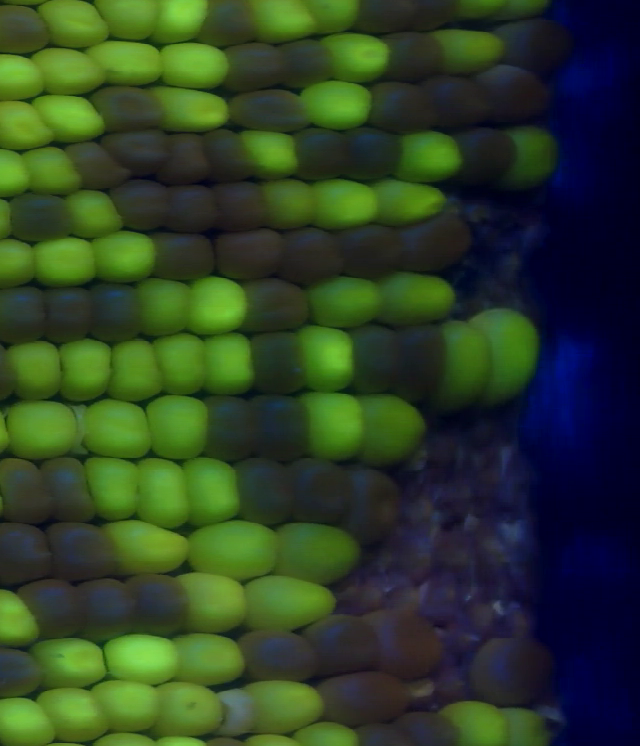fluorescent: (473, 302, 541, 398), (359, 390, 434, 475), (434, 319, 498, 417), (244, 575, 339, 638), (272, 520, 364, 585), (299, 324, 370, 406), (79, 394, 158, 462), (4, 400, 85, 465), (161, 626, 248, 686), (97, 631, 188, 688), (180, 527, 280, 577), (101, 519, 197, 571), (304, 389, 371, 463), (92, 680, 178, 737), (153, 675, 229, 739), (26, 636, 114, 691), (395, 124, 468, 190), (135, 455, 195, 534), (145, 395, 214, 462), (200, 332, 261, 407), (151, 80, 234, 135), (176, 572, 252, 632), (31, 685, 111, 742), (238, 680, 329, 729), (377, 266, 459, 320), (55, 338, 120, 406), (147, 337, 218, 399), (137, 276, 202, 343), (297, 80, 377, 134), (87, 227, 158, 284), (84, 38, 166, 87), (86, 454, 143, 524), (185, 273, 248, 336), (305, 272, 386, 321), (19, 145, 92, 198), (33, 91, 104, 145), (107, 335, 165, 401), (309, 177, 387, 226), (182, 451, 239, 518), (437, 26, 508, 79), (159, 37, 231, 89), (237, 127, 302, 184), (4, 338, 66, 397), (39, 1, 116, 47), (63, 184, 127, 238), (323, 30, 394, 78), (370, 177, 453, 218), (0, 96, 57, 155), (32, 47, 105, 93), (444, 699, 514, 746), (26, 238, 98, 281), (0, 587, 46, 654), (501, 126, 552, 185), (99, 1, 164, 45), (254, 1, 320, 44), (266, 173, 319, 226), (156, 1, 217, 47), (0, 698, 48, 746), (0, 48, 45, 99), (0, 237, 44, 287), (0, 142, 37, 199), (501, 706, 552, 746), (293, 721, 366, 746), (308, 1, 363, 34)
nonfluorescent: (310, 658, 418, 723), (471, 637, 555, 706), (232, 620, 321, 683), (367, 607, 444, 678), (45, 516, 129, 581), (301, 614, 383, 679), (391, 323, 447, 414), (287, 457, 354, 531), (272, 225, 351, 287), (228, 450, 294, 524), (478, 64, 555, 127), (333, 222, 415, 281), (200, 396, 270, 463), (0, 517, 62, 592), (222, 85, 316, 134), (493, 25, 576, 79), (245, 325, 309, 395), (16, 576, 80, 645), (399, 214, 470, 275), (87, 86, 170, 137), (150, 230, 224, 286), (37, 277, 96, 347), (43, 459, 102, 529), (128, 572, 191, 636), (78, 575, 138, 642), (0, 454, 54, 528), (451, 127, 516, 188), (349, 323, 402, 397), (338, 127, 406, 184), (101, 127, 175, 179), (209, 227, 283, 278), (0, 284, 56, 351), (258, 396, 315, 459), (224, 41, 293, 93), (369, 80, 433, 136), (343, 475, 399, 539), (62, 141, 133, 191), (243, 281, 311, 332), (212, 179, 277, 232), (9, 187, 71, 241), (286, 125, 346, 180), (0, 1, 56, 59), (88, 286, 143, 344), (426, 71, 485, 122), (197, 1, 258, 50), (109, 181, 169, 230), (157, 130, 210, 184), (0, 640, 46, 701), (276, 38, 337, 83), (375, 34, 443, 74), (167, 180, 216, 235), (389, 712, 463, 746), (198, 131, 248, 179), (351, 1, 424, 31), (409, 1, 464, 33), (353, 717, 396, 746)
